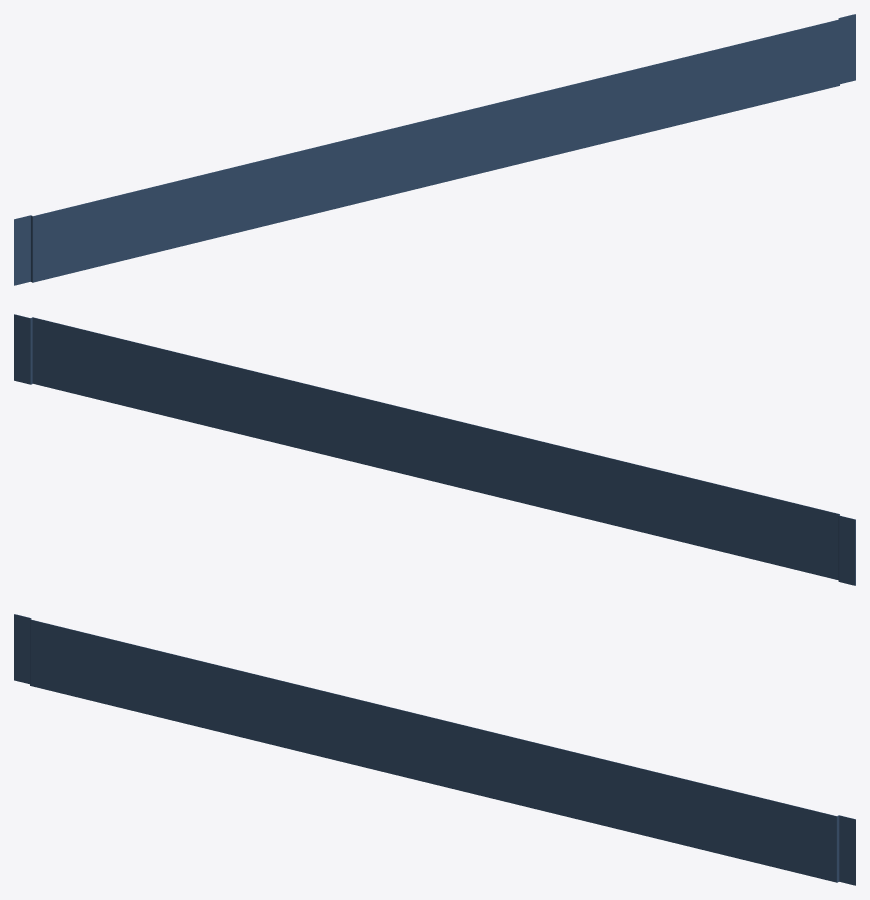
The model's file is VERGE_Model_Refrigerator_8.obj.
3 renders of one model, top to bottom at view 1: azimuth 30°, elevation 25°; view 2: azimuth 150°, elevation 25°; view 3: azimuth 330°, elevation 25°, orthographic.
Visible parts, largest first — view 1: VERGE_Model_Refrigerator_8; view 2: VERGE_Model_Refrigerator_8; view 3: VERGE_Model_Refrigerator_8.
Boxes of the visible parts, x1,y1,x2,y2 form: VERGE_Model_Refrigerator_8: [14, 14, 855, 285]; VERGE_Model_Refrigerator_8: [14, 314, 855, 585]; VERGE_Model_Refrigerator_8: [14, 614, 855, 885].
Size of the model in its own units: 756 by 56.8 by 2.9.
